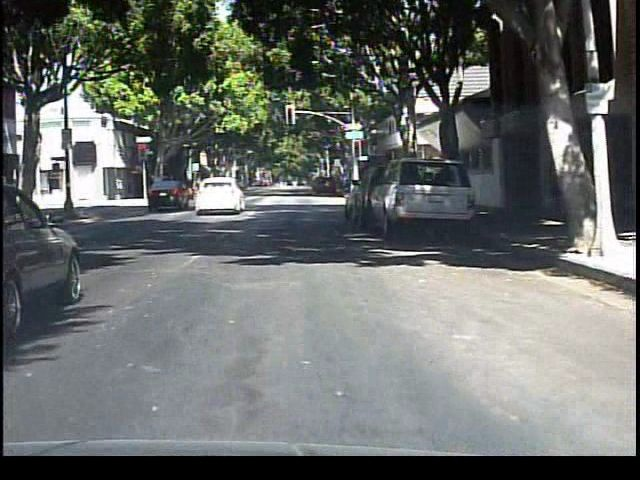person: (188, 169, 212, 212)
